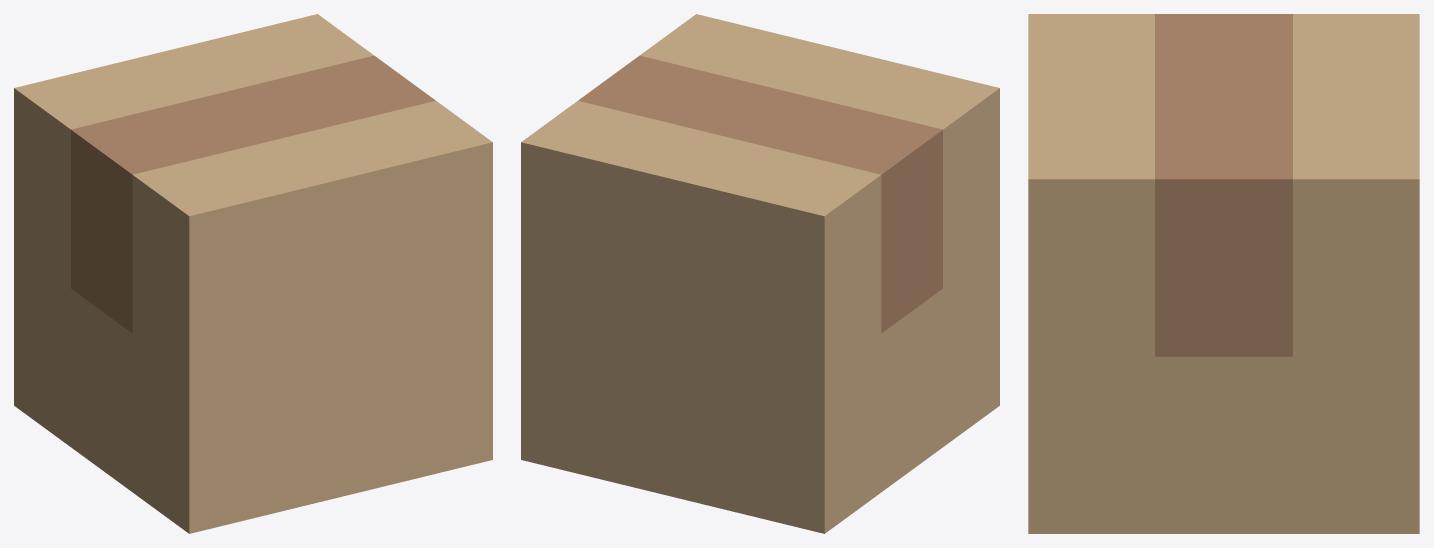
3 renders of one model, left to right at view 1: azimuth 30°, elevation 25°; view 2: azimuth 150°, elevation 25°; view 3: azimuth 270°, elevation 25°, orthographic. The views are drawn at different scales.
Visible parts, largest first — view 1: Cube; view 2: Cube; view 3: Cube.
Part boxes in pixels (x1=…): Cube: x1=14, y1=14, x2=492, y2=533; Cube: x1=521, y1=14, x2=999, y2=533; Cube: x1=1028, y1=14, x2=1419, y2=533.
Size of the model in its own units: 0.3 by 0.3 by 0.3.
